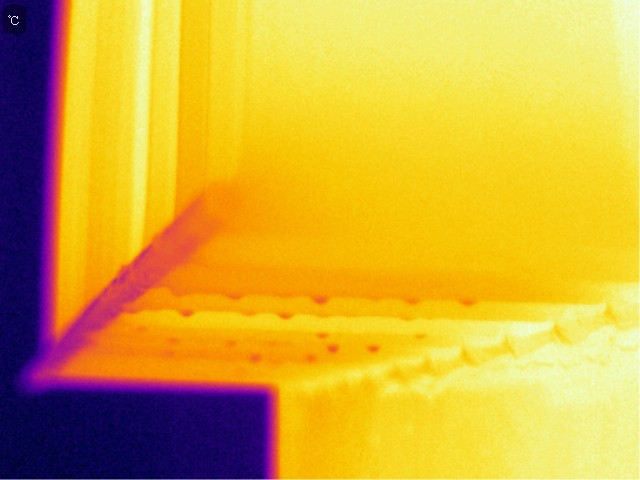Oil: (306, 290, 336, 309), (219, 284, 246, 305), (241, 304, 265, 323), (324, 339, 349, 356), (276, 306, 296, 325), (130, 321, 152, 338), (156, 345, 178, 361), (221, 335, 240, 353), (174, 280, 190, 301), (398, 292, 422, 306), (455, 296, 477, 311), (363, 341, 384, 356), (164, 332, 187, 344), (245, 349, 263, 364), (410, 329, 426, 343), (306, 351, 320, 367), (398, 314, 418, 323), (312, 328, 327, 339), (178, 307, 192, 318)
